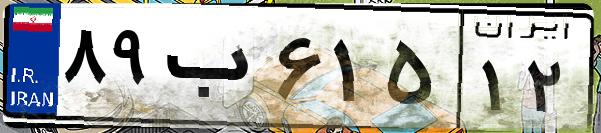1: (330, 28, 385, 110), (475, 38, 525, 113)
2: (525, 38, 570, 115)
5: (385, 28, 445, 110)
6: (270, 28, 330, 110)
8: (57, 26, 110, 100)
9: (110, 28, 158, 98)
ب: (158, 20, 270, 120)
